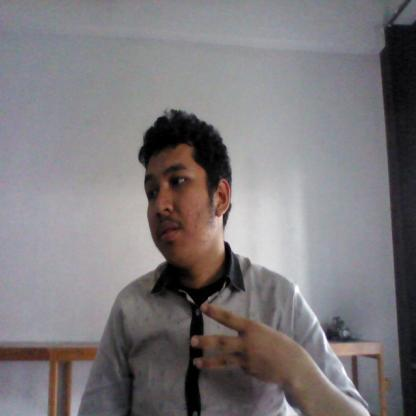E: (189, 300, 281, 386)
